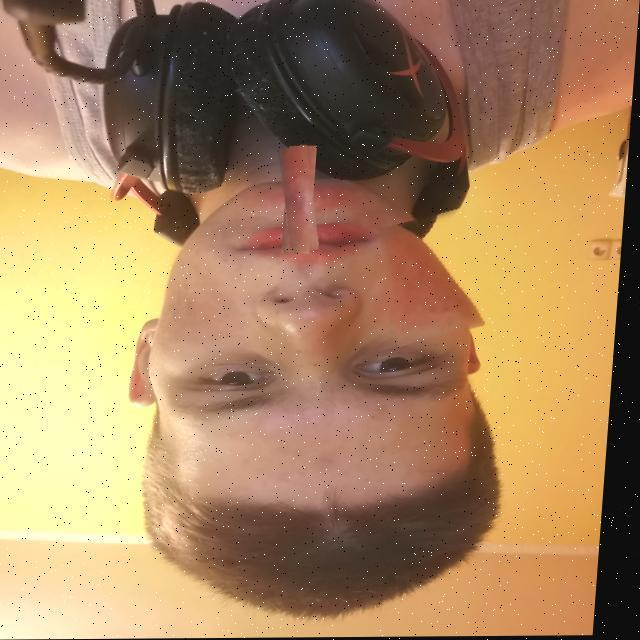redness: (384, 226, 490, 327), (281, 147, 316, 253)
